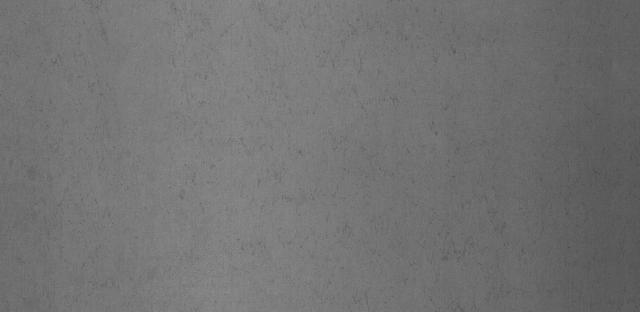silk_spot: (160, 14, 501, 180)
